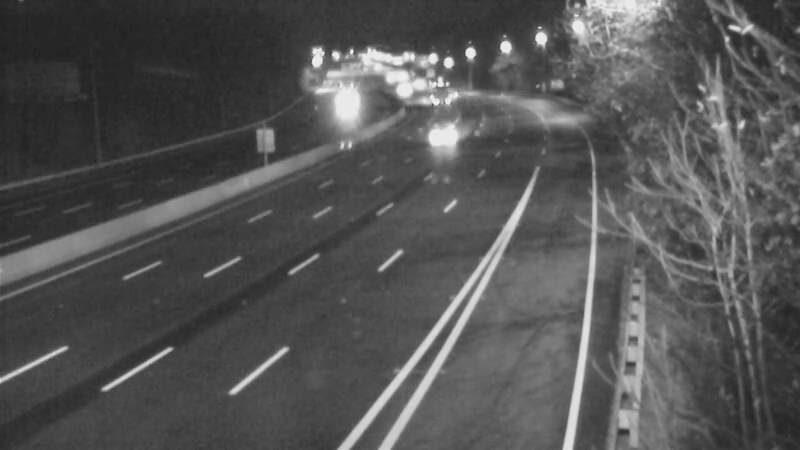vehicle: (373, 63, 423, 113), (409, 69, 459, 119), (419, 103, 469, 153), (318, 79, 368, 129)
